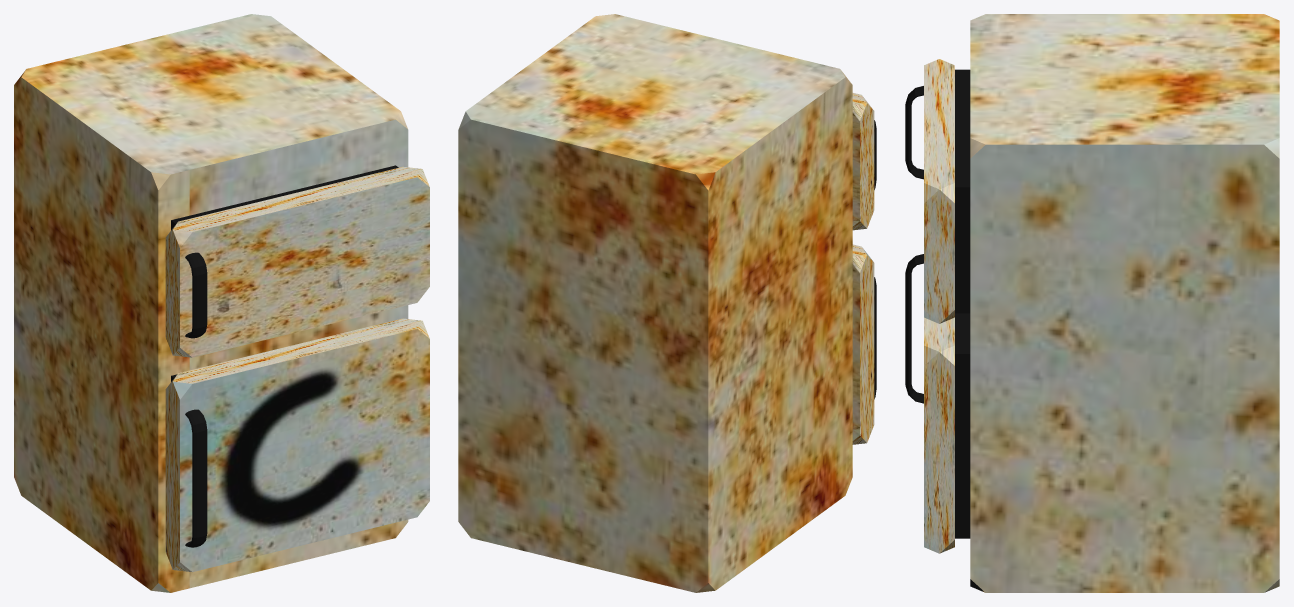
File: cumi6.gltf
3 views of the same model, side by side, from view 1: azimuth 30°, elevation 25°; view 2: azimuth 150°, elevation 25°; view 3: azimuth 270°, elevation 25° (orthographic). The views are drawn at different scales.
Parts seen in each view (by area): view 1: Cube, Cube.002, Cube.001; view 2: Cube, Cube.002, Cube.001; view 3: Cube, Cube.001, Cube.002.
Part boxes in pixels (left/top/right/bottom): Cube: left=14, top=14, right=408, bottom=592; Cube.002: left=165, top=318, right=429, bottom=572; Cube.001: left=165, top=165, right=429, bottom=357; Cube: left=458, top=14, right=852, bottom=592; Cube.002: left=852, top=244, right=876, bottom=444; Cube.001: left=852, top=93, right=876, bottom=230; Cube: left=970, top=14, right=1279, bottom=592; Cube.001: left=905, top=59, right=970, bottom=323; Cube.002: left=905, top=254, right=970, bottom=553.
Bounding box in the file's own units: 2 × 3.2 × 2.42.
1 material, 1 textured.
